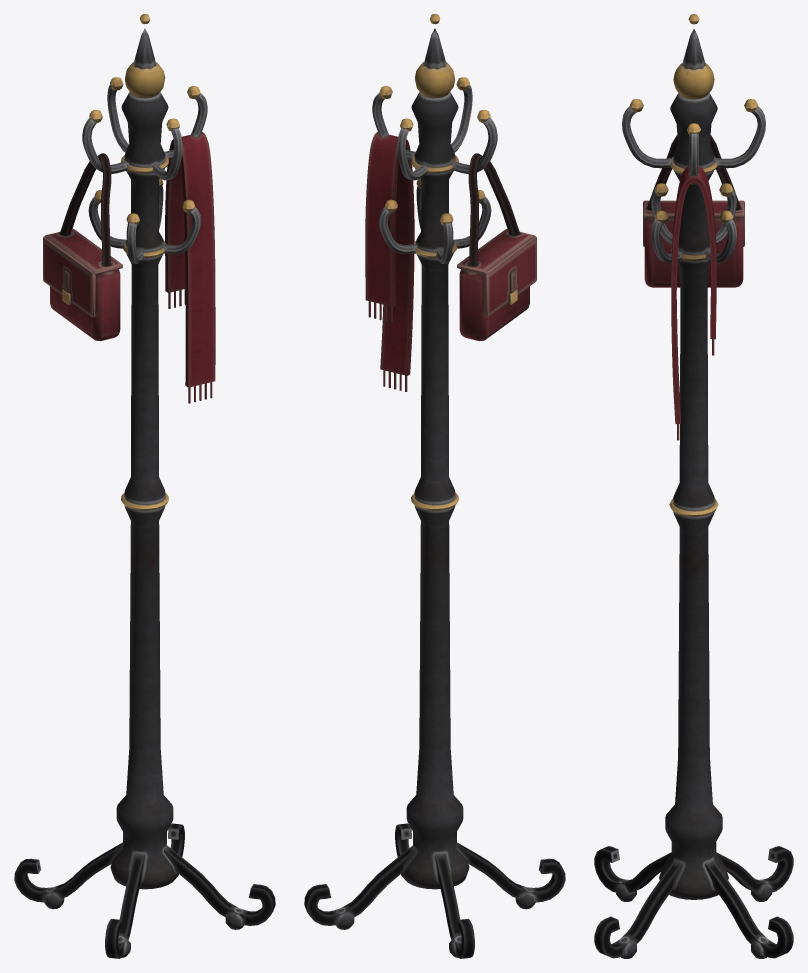
Rendered from CoatRack.fbx.
3 views of the same model, side by side, from view 1: azimuth 30°, elevation 25°; view 2: azimuth 150°, elevation 25°; view 3: azimuth 270°, elevation 25° (orthographic).
Visible parts, largest first — view 1: CoatRack; view 2: CoatRack; view 3: CoatRack.
Part boxes in pixels (<box>): CoatRack: <box>14,14,275,958</box>; CoatRack: <box>304,14,565,958</box>; CoatRack: <box>594,14,793,958</box>.
Size of the model in its own units: 125 by 636 by 125.
